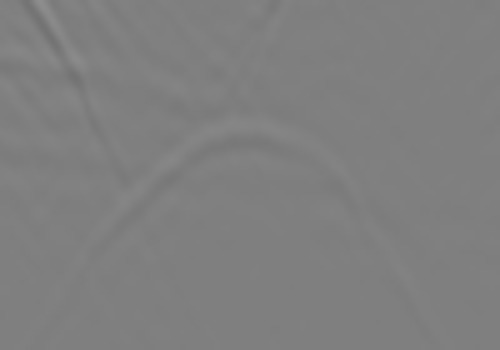hyperbola: (97, 112, 417, 286)
